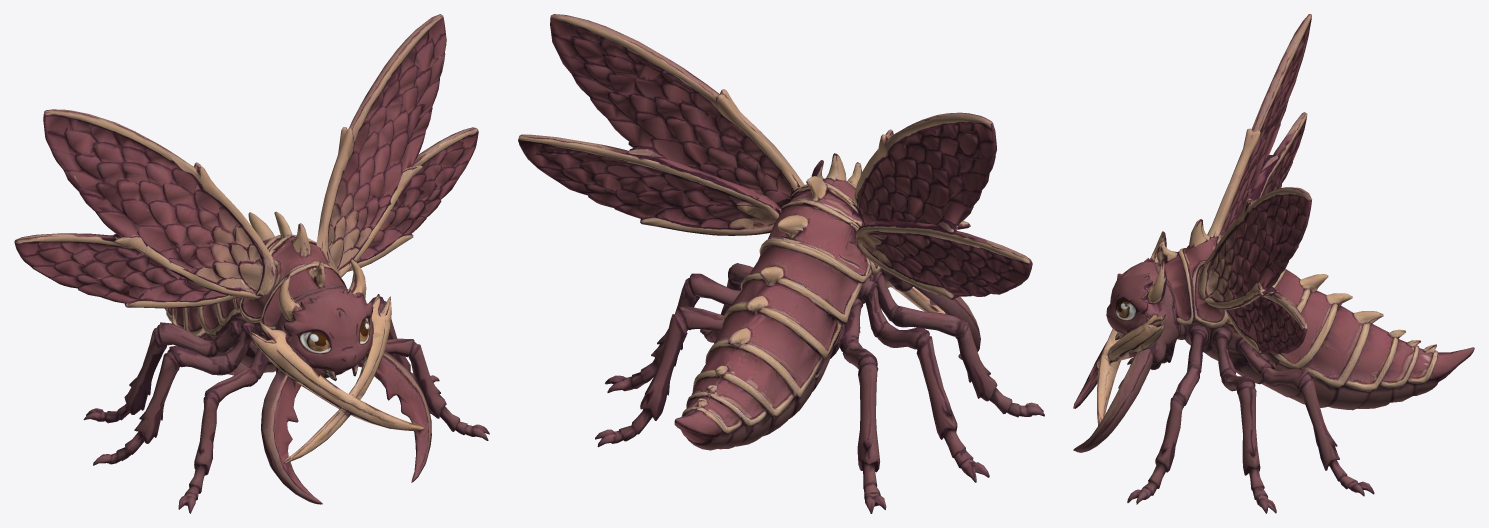
3 views of the same model, side by side, from view 1: azimuth 30°, elevation 25°; view 2: azimuth 150°, elevation 25°; view 3: azimuth 270°, elevation 25° (orthographic). The views are drawn at different scales.
Visible parts, largest first — view 1: Mesh_0; view 2: Mesh_0; view 3: Mesh_0.
Part boxes in pixels (x1,y1,x2,y2): Mesh_0: (14, 14, 489, 513); Mesh_0: (518, 14, 1044, 513); Mesh_0: (1073, 14, 1474, 513).
Bounding box in the file's own units: 1.9 × 1.37 × 1.5.
1 material, 1 textured.
